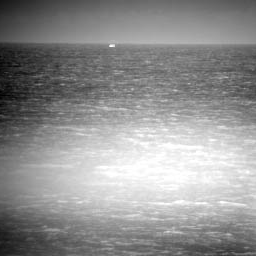Target: (107, 43, 116, 49)
